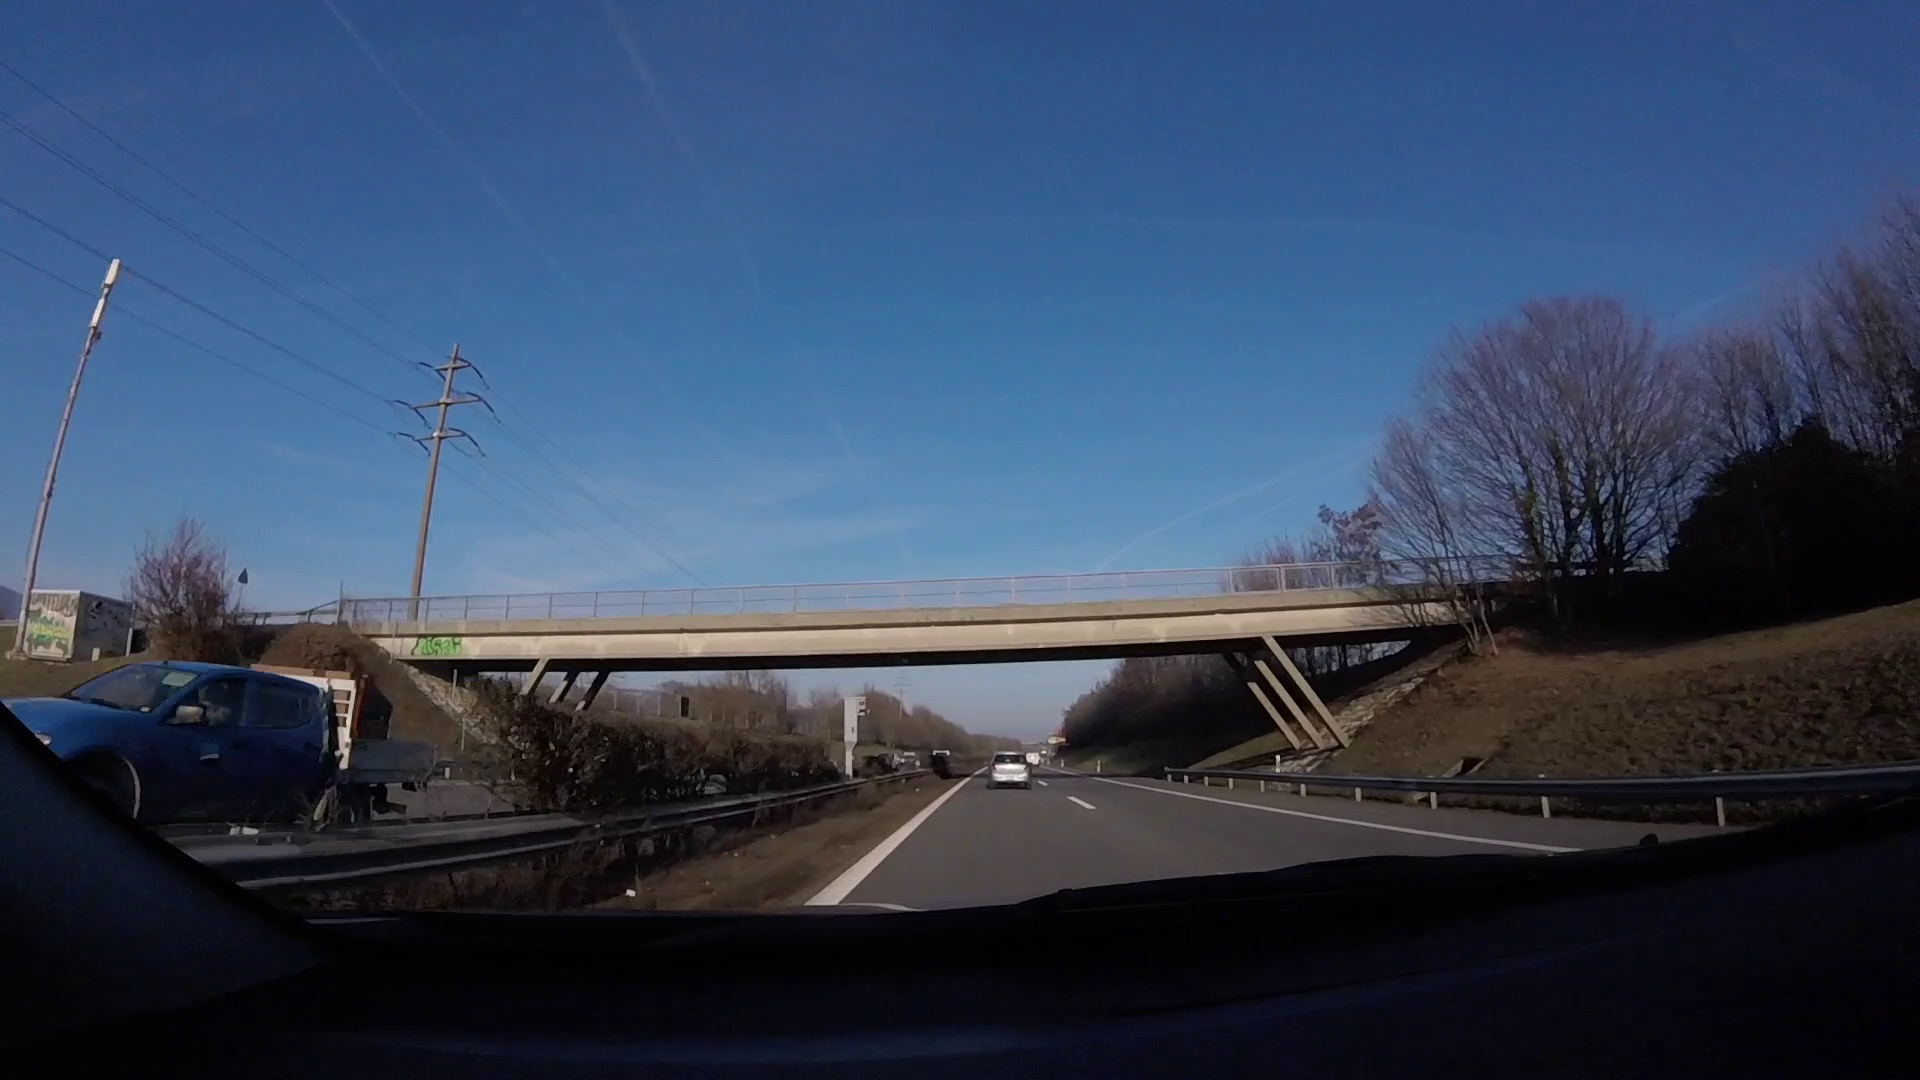radar: (841, 694, 874, 781)
